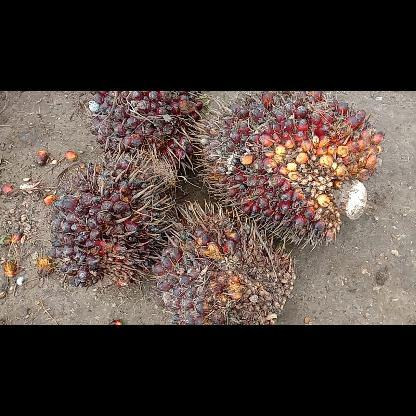TBS masak: (188, 90, 384, 250), (152, 200, 296, 324), (49, 154, 173, 286), (87, 90, 202, 176)
